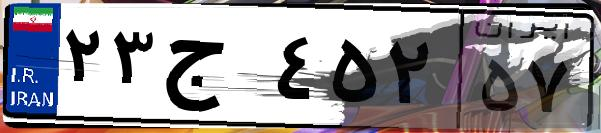2: (385, 28, 445, 110), (57, 26, 110, 100)
3: (110, 28, 158, 98)
4: (270, 28, 330, 110)
5: (330, 28, 385, 110), (475, 38, 525, 113)
7: (525, 38, 570, 115)
ج: (158, 20, 270, 120)
